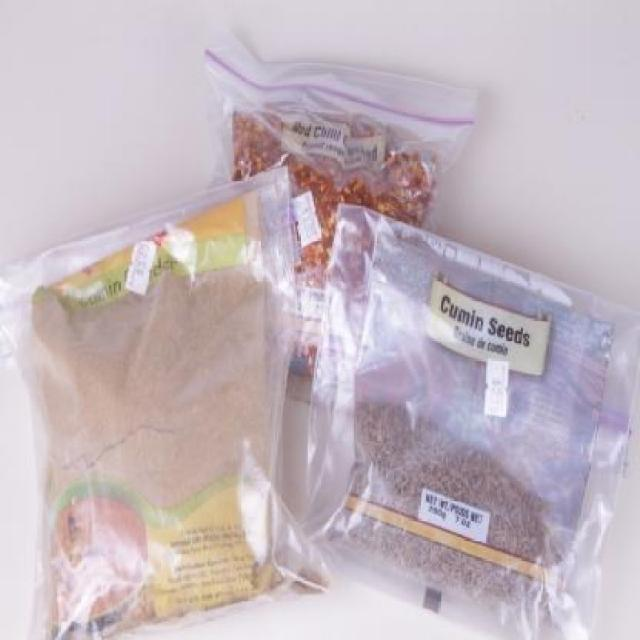plastic bag: (6, 123, 322, 640)
